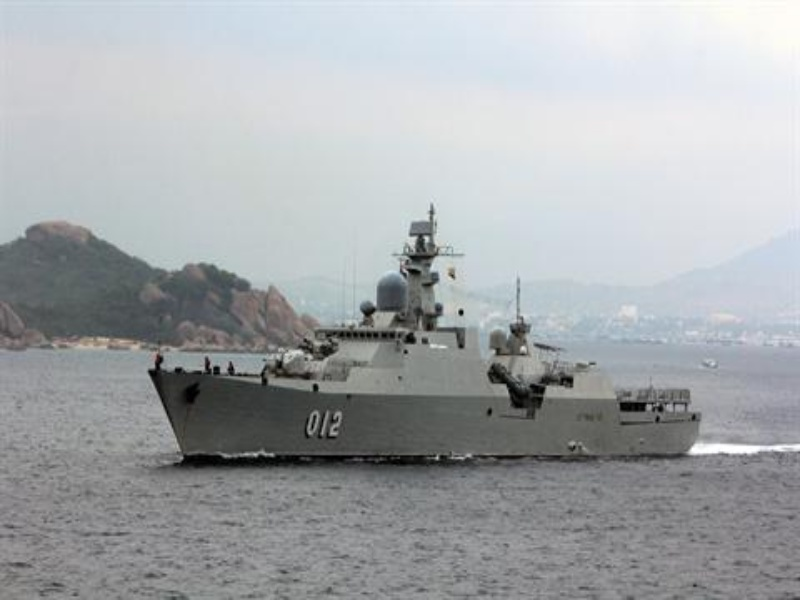cruise: (151, 250, 700, 461)
